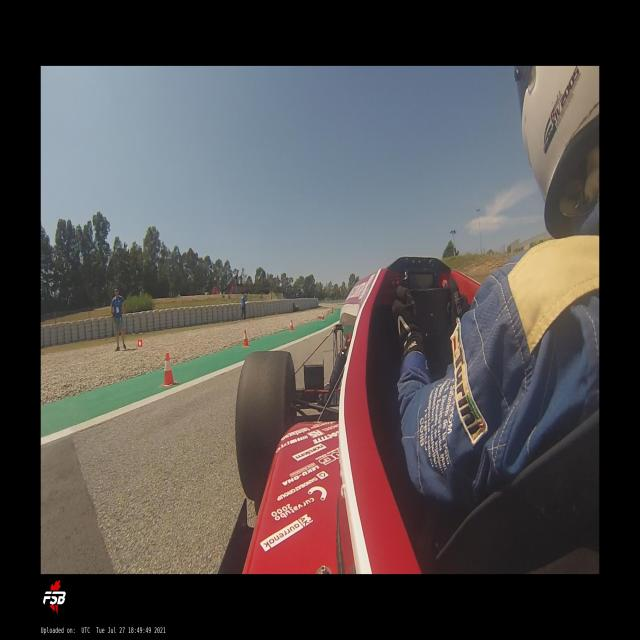orange_cone: (160, 352, 178, 387), (243, 329, 249, 346), (137, 339, 143, 347), (290, 319, 294, 330), (322, 312, 324, 320), (331, 307, 333, 314)
